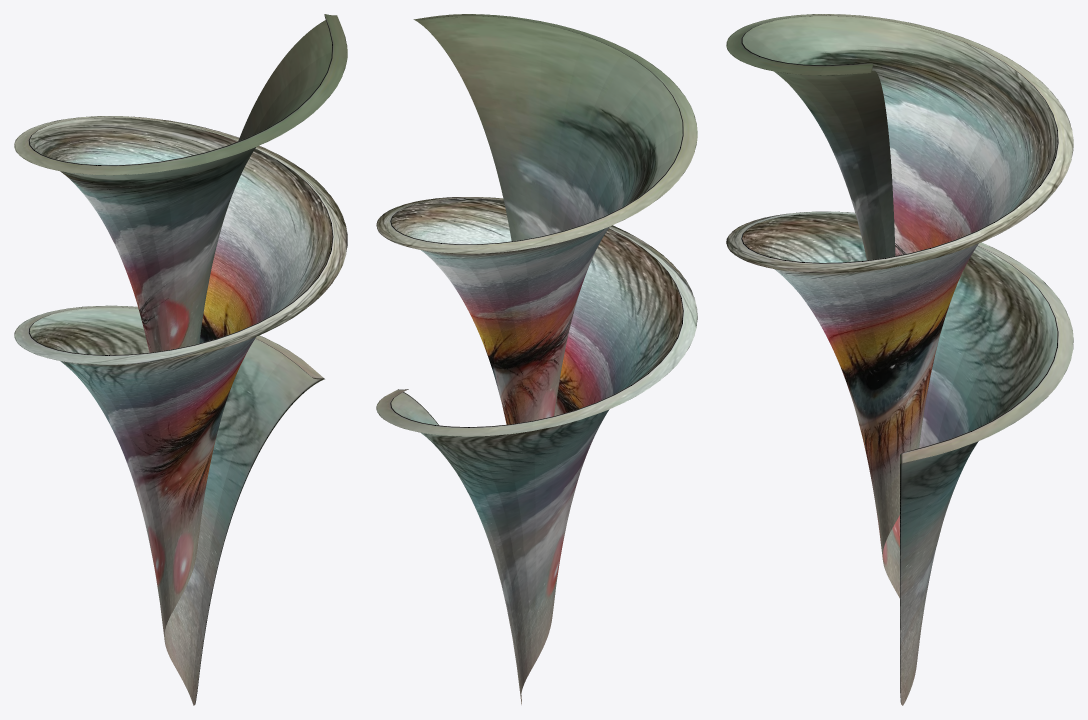
File: spiral3.gltf
3 renders of one model, left to right at view 1: azimuth 30°, elevation 25°; view 2: azimuth 150°, elevation 25°; view 3: azimuth 270°, elevation 25°, orthographic. The views are drawn at different scales.
Visible parts, largest first — view 1: Obj_000001; view 2: Obj_000001; view 3: Obj_000001.
Boxes of the visible parts, x1,y1,x2,y2 form: Obj_000001: [14, 14, 347, 705]; Obj_000001: [376, 14, 697, 704]; Obj_000001: [726, 14, 1073, 705].
Size of the model in its own units: 36.82 by 82.06 by 36.83.
1 material, 1 textured.
